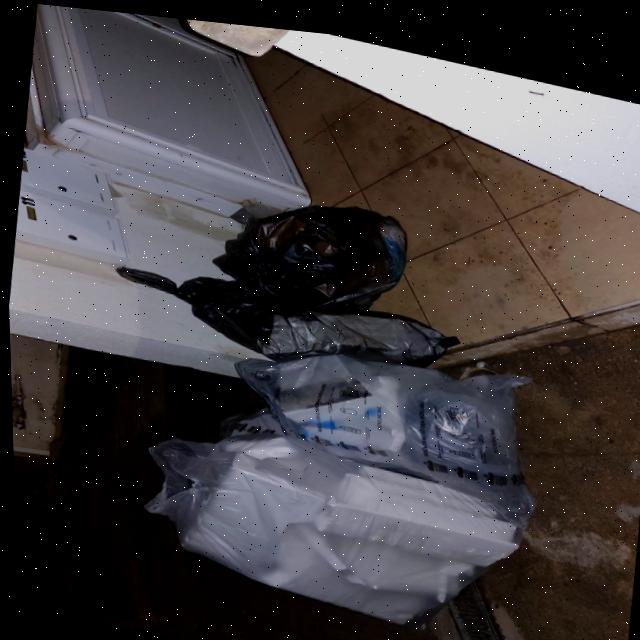Mixed Waste -Black Bag-: (107, 247, 474, 392), (206, 165, 409, 315)
Recycled Waste -Grey or Green Bag-: (125, 401, 549, 640), (216, 301, 547, 507)
